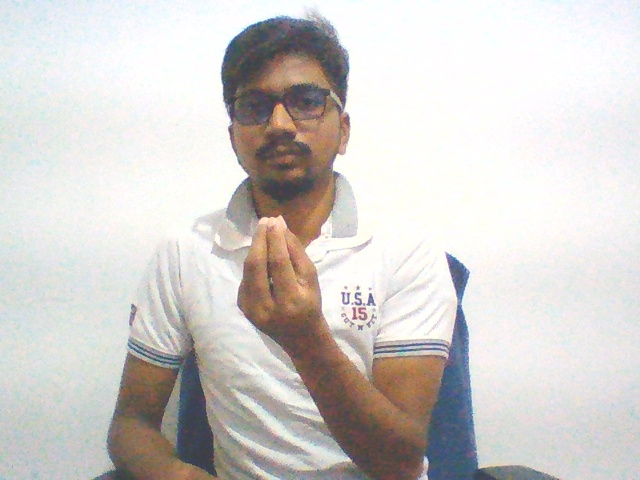dog: (232, 205, 335, 347)
